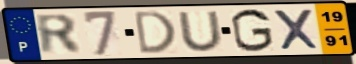7: (81, 9, 120, 58)
D: (133, 9, 178, 56)
G: (229, 7, 276, 53)
R: (33, 13, 85, 57)
U: (175, 9, 227, 53)
X: (270, 7, 322, 51)
